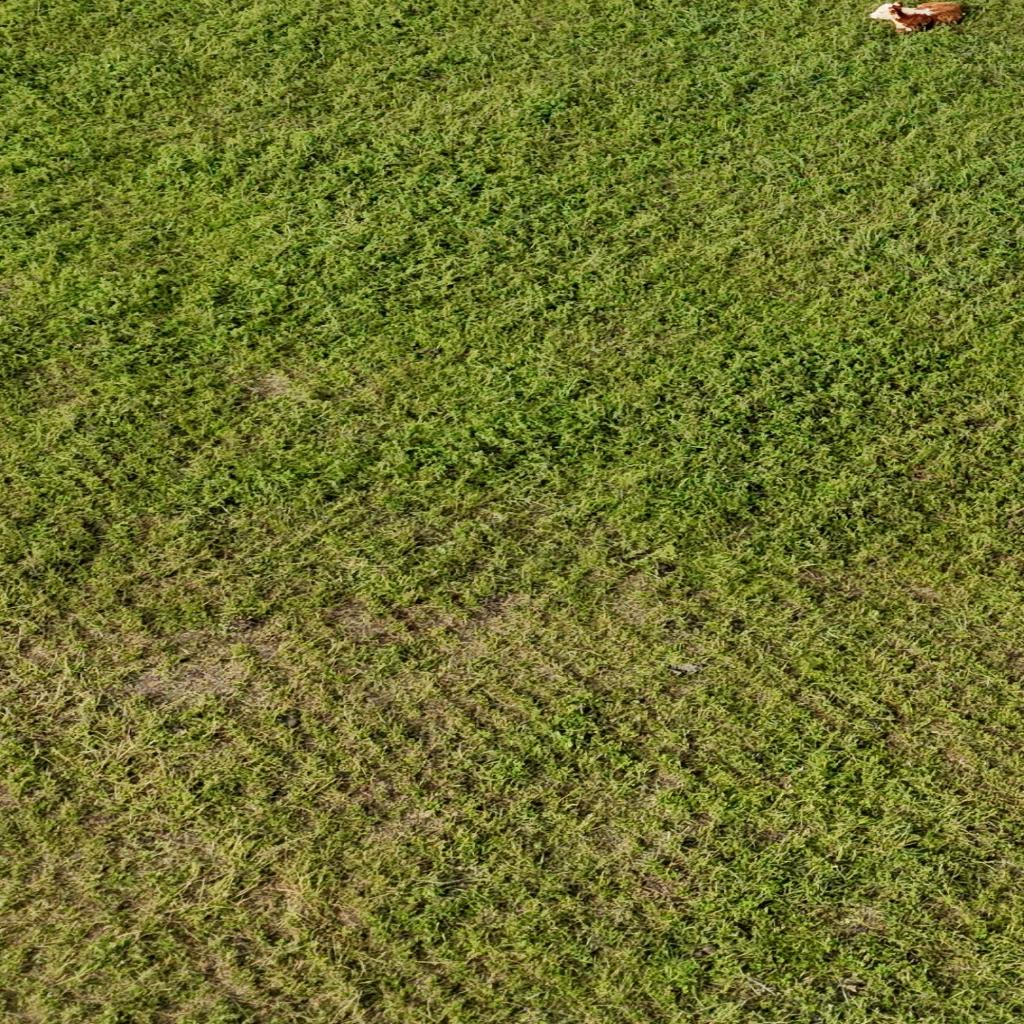cow: (863, 0, 981, 36)
